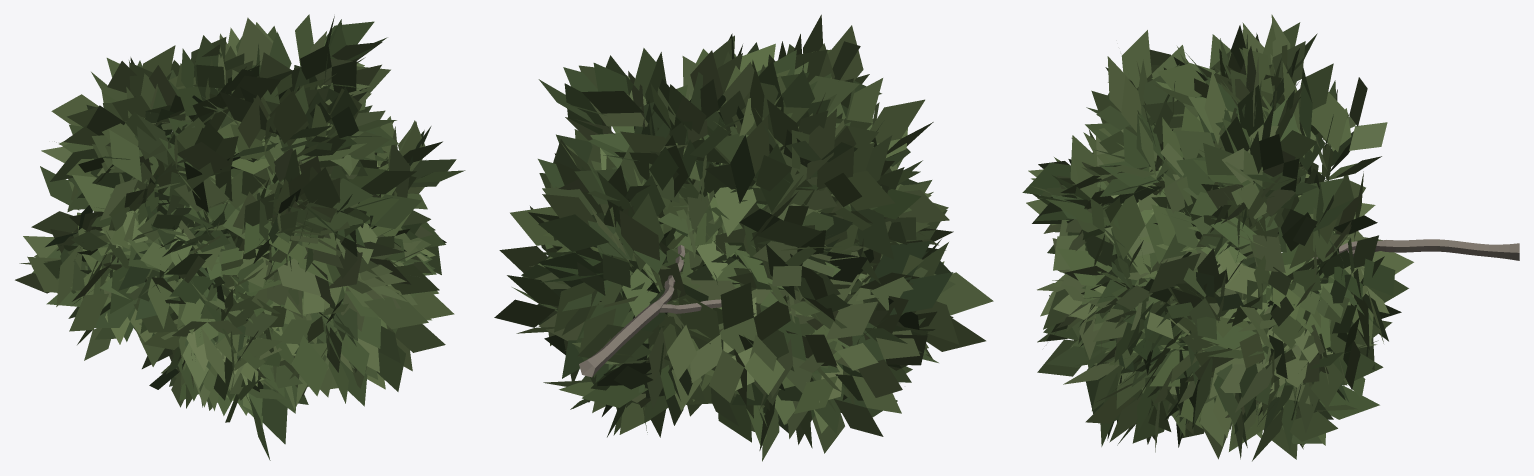
Rendered from tree_shrub_mid_02.obj.
3 views of the same model, side by side, from view 1: azimuth 30°, elevation 25°; view 2: azimuth 150°, elevation 25°; view 3: azimuth 270°, elevation 25° (orthographic). The views are drawn at different scales.
Parts seen in each view (by area): view 1: tree_shrub_mid_02; view 2: tree_shrub_mid_02; view 3: tree_shrub_mid_02.
Boxes of the visible parts, x1,y1,x2,y2 form: tree_shrub_mid_02: (15,14,465,460); tree_shrub_mid_02: (494,14,993,461); tree_shrub_mid_02: (1022,14,1519,461).
Bounding box in the file's own units: 0.9994 × 0.8874 × 1.02.
Materials: 1 (1 with a texture image).
